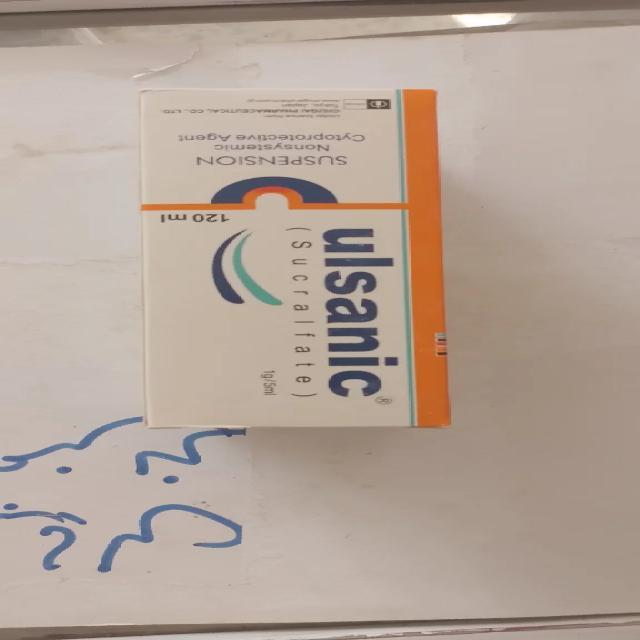drug-name: (322, 222, 402, 412)
